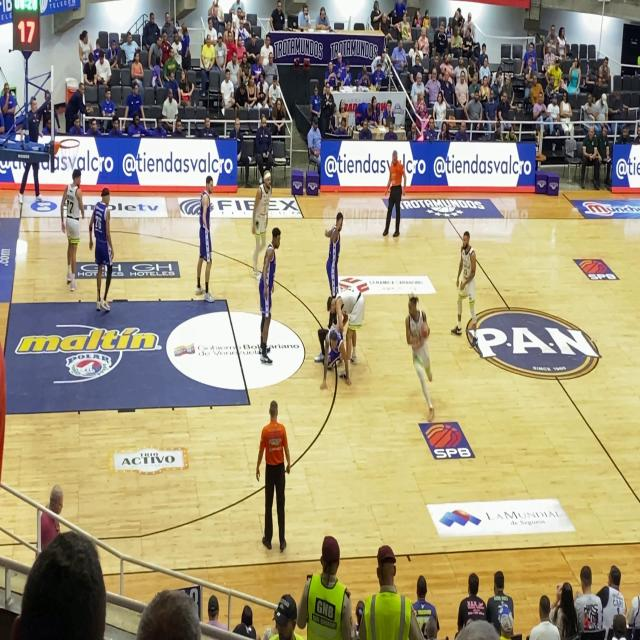Ball: (418, 320, 434, 349)
referee: (252, 397, 300, 564), (380, 144, 410, 245)
team1: (402, 289, 448, 424), (448, 230, 486, 363), (63, 166, 91, 304), (328, 286, 371, 374), (243, 163, 268, 273)
team2: (248, 224, 284, 371), (91, 174, 122, 318), (190, 166, 217, 304), (312, 318, 354, 396), (321, 206, 348, 315)
ubasket: (56, 134, 80, 164)
